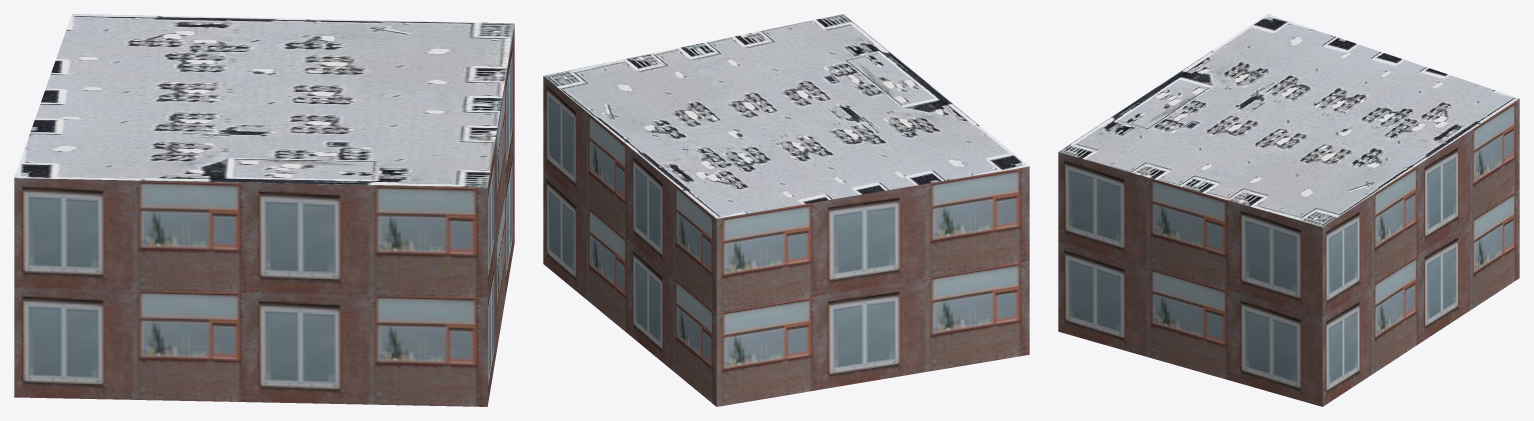
The model's file is ResTex__479.fbx.
3 renders of one model, left to right at view 1: azimuth 30°, elevation 25°; view 2: azimuth 150°, elevation 25°; view 3: azimuth 270°, elevation 25°, orthographic. The views are drawn at different scales.
Visible parts, largest first — view 1: CityEngineMaterial_19_m, CityEngineMaterial_15_m; view 2: CityEngineMaterial_19_m, CityEngineMaterial_15_m; view 3: CityEngineMaterial_19_m, CityEngineMaterial_15_m.
Part boxes in pixels (box(x1,y1,x2,y2)): CityEngineMaterial_19_m: box(14, 25, 514, 406); CityEngineMaterial_15_m: box(14, 14, 514, 187); CityEngineMaterial_19_m: box(543, 76, 1029, 406); CityEngineMaterial_15_m: box(544, 14, 1029, 218); CityEngineMaterial_19_m: box(1058, 98, 1519, 406); CityEngineMaterial_15_m: box(1059, 14, 1519, 227).
Bounding box in the file's own units: 15.28 × 6 × 13.96.
2 materials, 2 textured.
